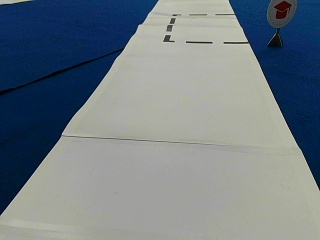school: (265, 1, 296, 26)
